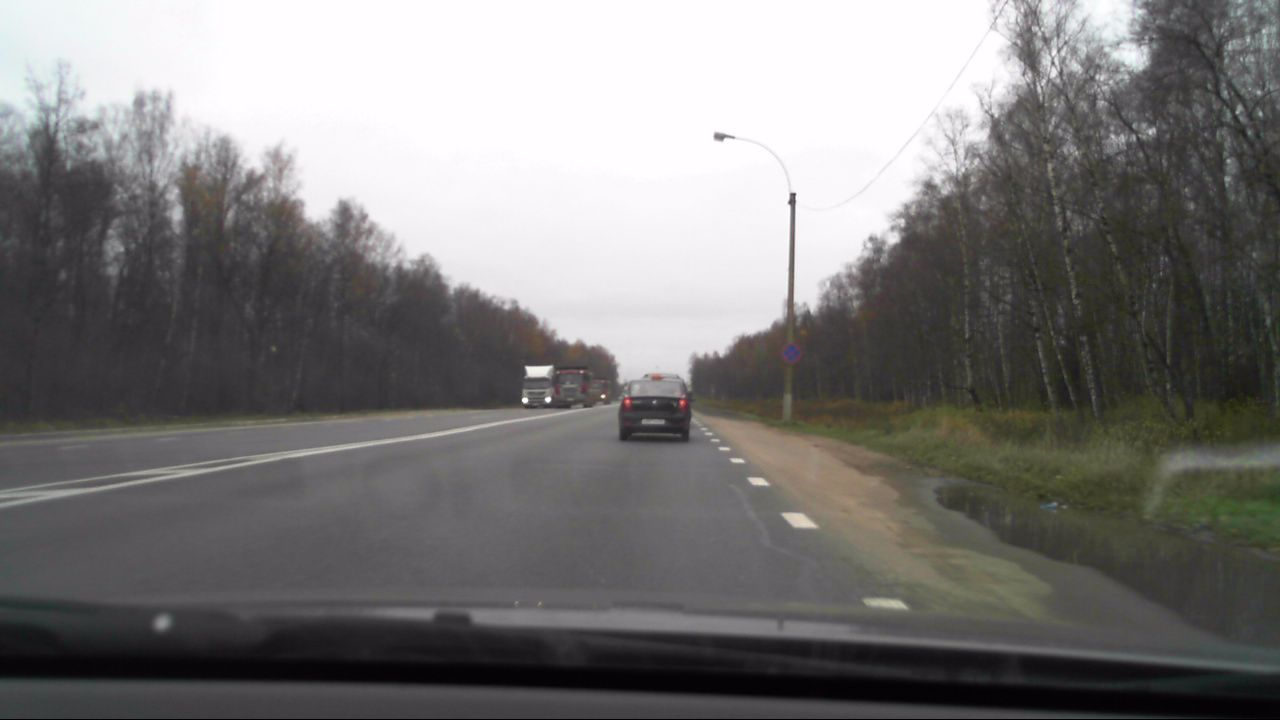No Parking: (777, 339, 804, 366)
